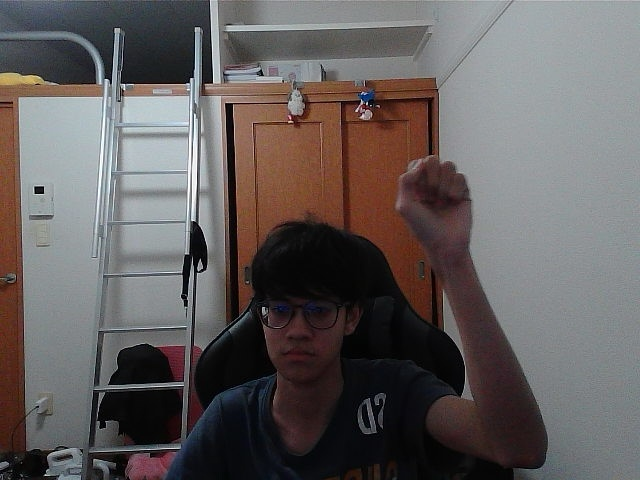closed_palm: (405, 162, 461, 241)
